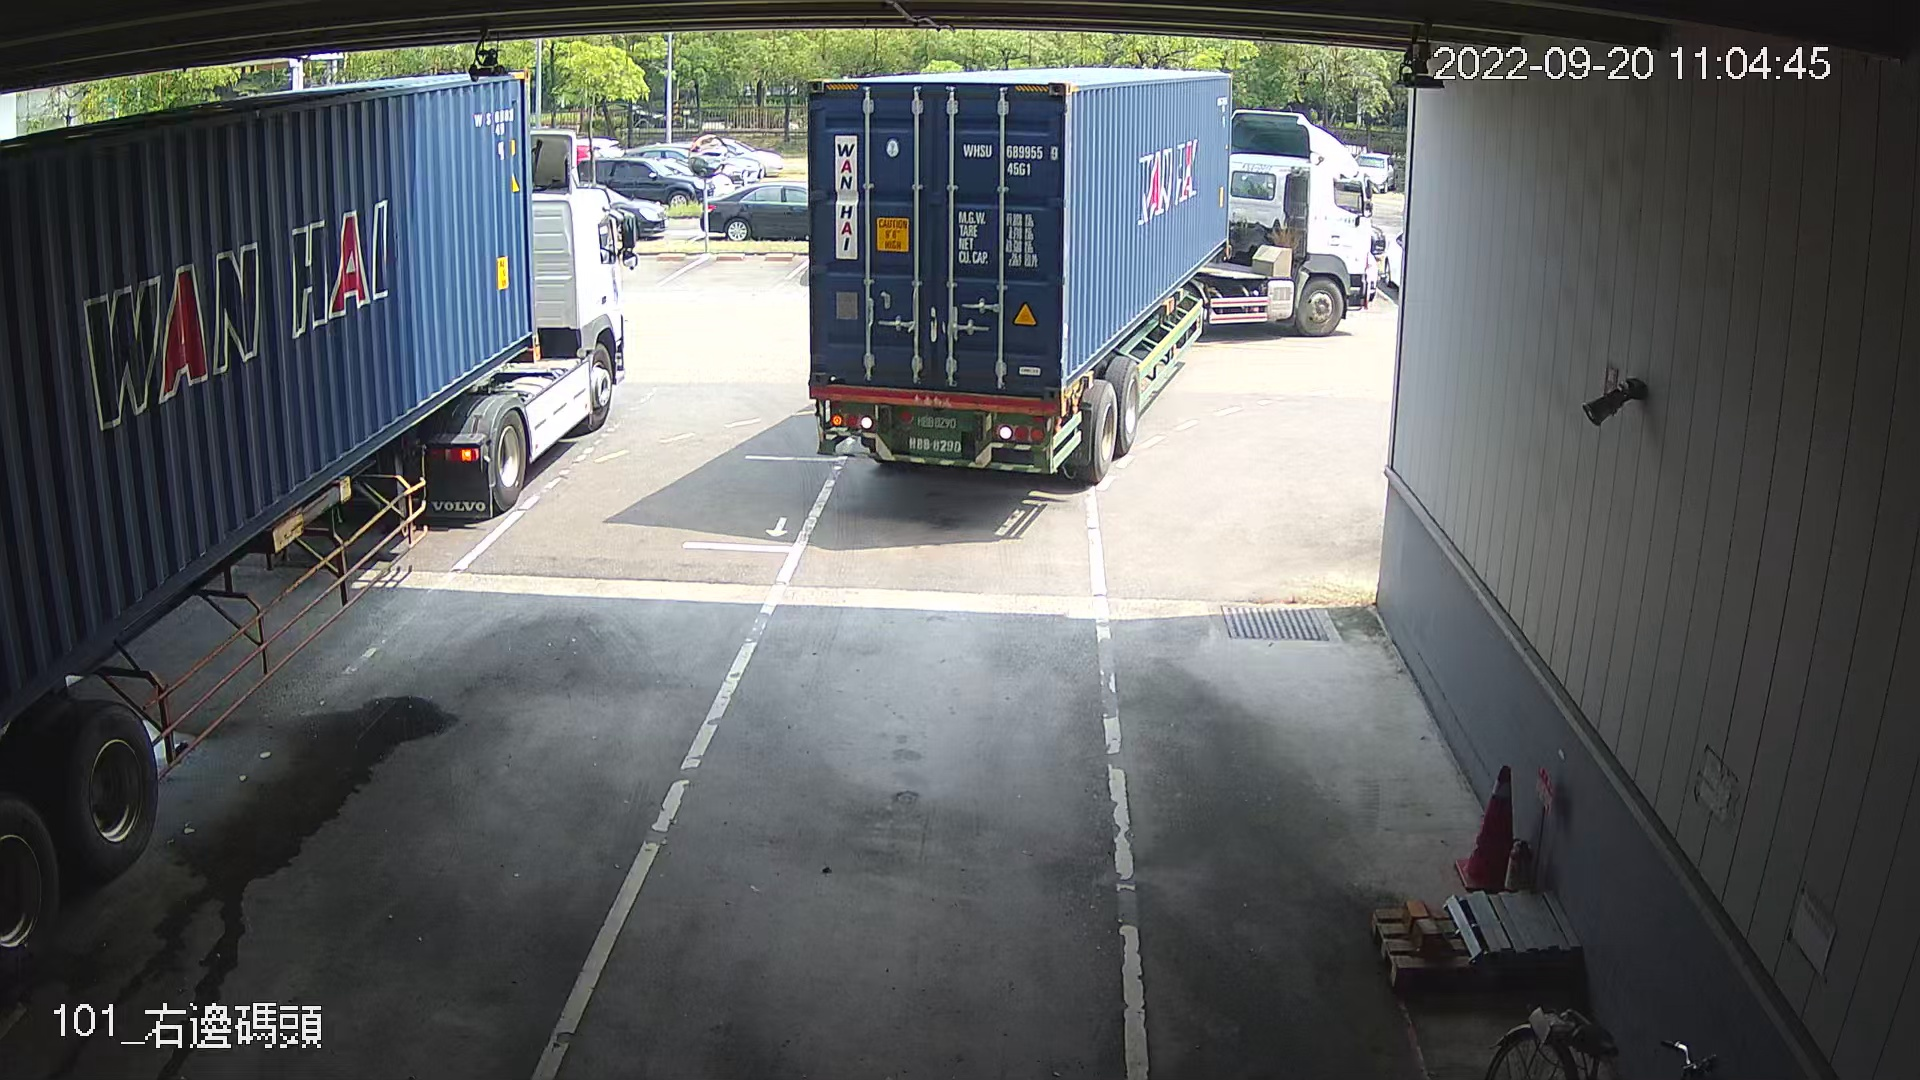container: (956, 136, 1060, 185)
